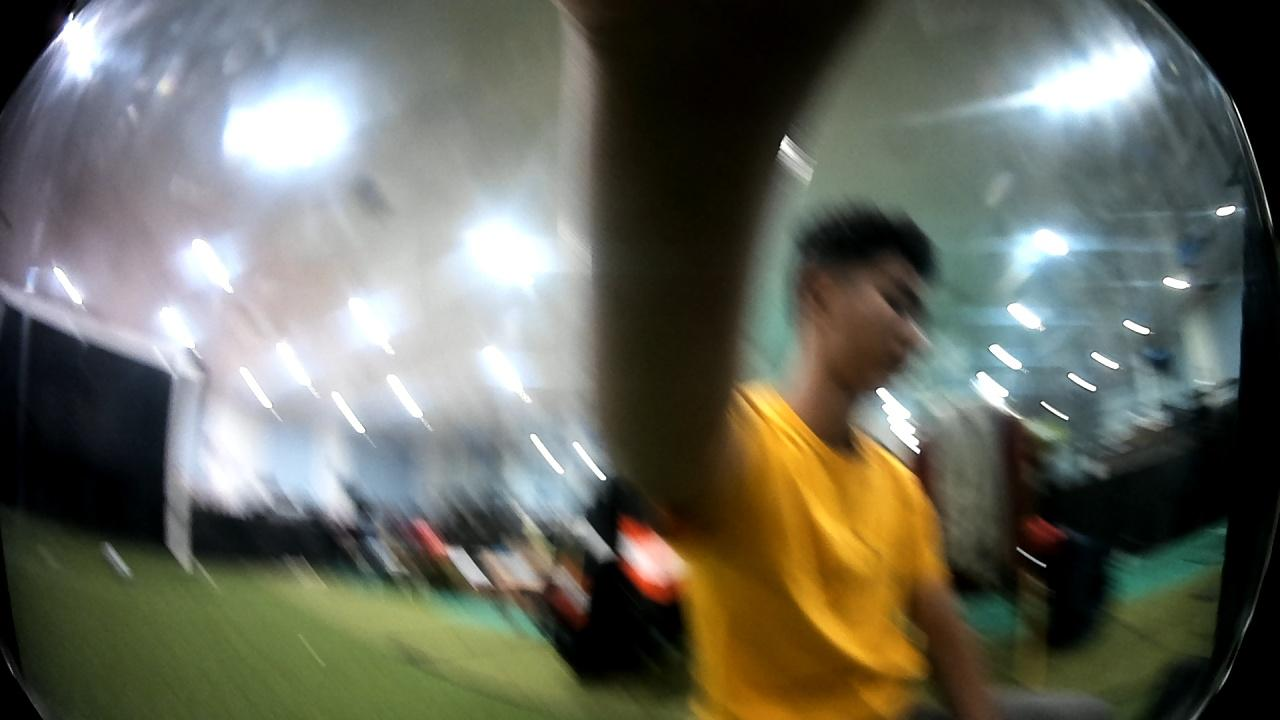ball: (91, 533, 139, 586)
